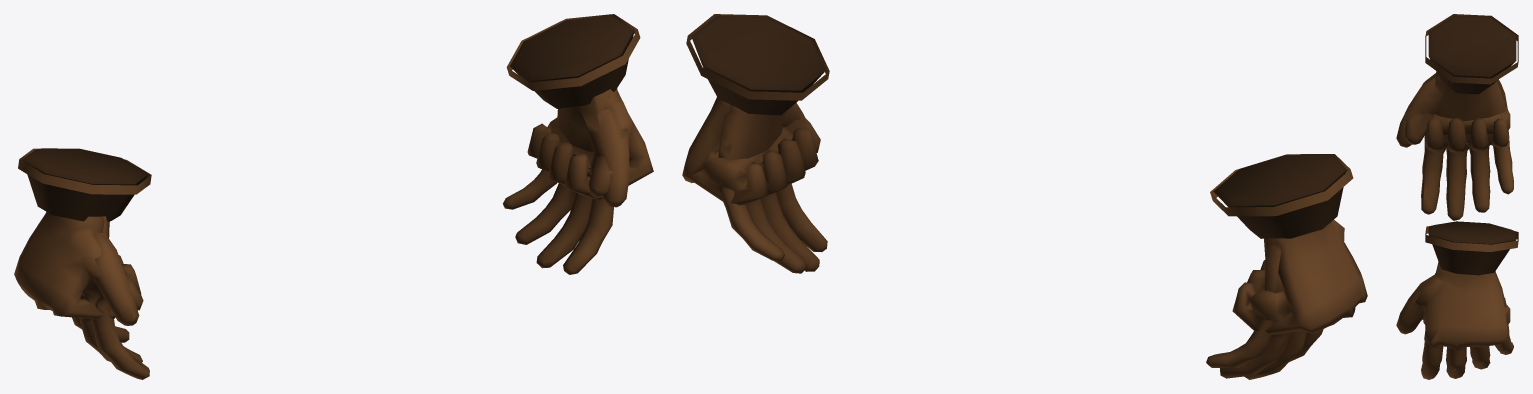
File: g_gloves_d.glb
3 views of the same model, side by side, from view 1: azimuth 30°, elevation 25°; view 2: azimuth 150°, elevation 25°; view 3: azimuth 270°, elevation 25° (orthographic). The views are drawn at different scales.
Parts seen in each view (by area): view 1: ArmL_HandOpen, ArmL_GloveCuff, ArmR_Hand, ArmR_GloveCuff, ArmL_Hand, ArmR_HandOpen; view 2: ArmL_GloveCuff, ArmR_Hand, ArmR_GloveCuff, ArmL_HandOpen, ArmL_Hand, ArmR_HandOpen; view 3: ArmR_HandOpen, ArmL_Hand, ArmR_GloveCuff, ArmL_GloveCuff, ArmR_Hand, ArmL_HandOpen.
Part boxes in pixels (x1,y1,x2,y2): ArmL_HandOpen: [503, 91, 629, 274]; ArmL_GloveCuff: [506, 14, 640, 108]; ArmR_Hand: [14, 212, 143, 319]; ArmR_GloveCuff: [18, 148, 151, 221]; ArmL_Hand: [527, 88, 653, 200]; ArmR_HandOpen: [72, 216, 149, 379]; ArmL_GloveCuff: [686, 14, 829, 115]; ArmR_Hand: [1232, 220, 1367, 334]; ArmR_GloveCuff: [1210, 154, 1353, 238]; ArmL_HandOpen: [718, 103, 827, 273]; ArmL_Hand: [682, 97, 820, 205]; ArmR_HandOpen: [1206, 238, 1323, 379]; ArmR_HandOpen: [1396, 75, 1513, 220]; ArmL_Hand: [1415, 263, 1510, 350]; ArmR_GloveCuff: [1425, 14, 1518, 94]; ArmL_GloveCuff: [1425, 221, 1518, 275]; ArmR_Hand: [1404, 71, 1510, 153]; ArmL_HandOpen: [1396, 262, 1513, 379].
Bounding box in the file's own units: 0.7891 × 0.2705 × 0.175.
